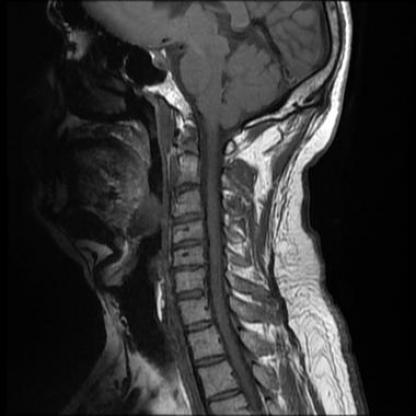Disc Protrusionrotation: (169, 210, 207, 227), (170, 260, 209, 275), (174, 287, 207, 303), (170, 237, 206, 251)
Osteophytesrotation: (169, 210, 207, 227), (170, 260, 209, 275), (170, 237, 207, 252), (174, 287, 207, 303)
